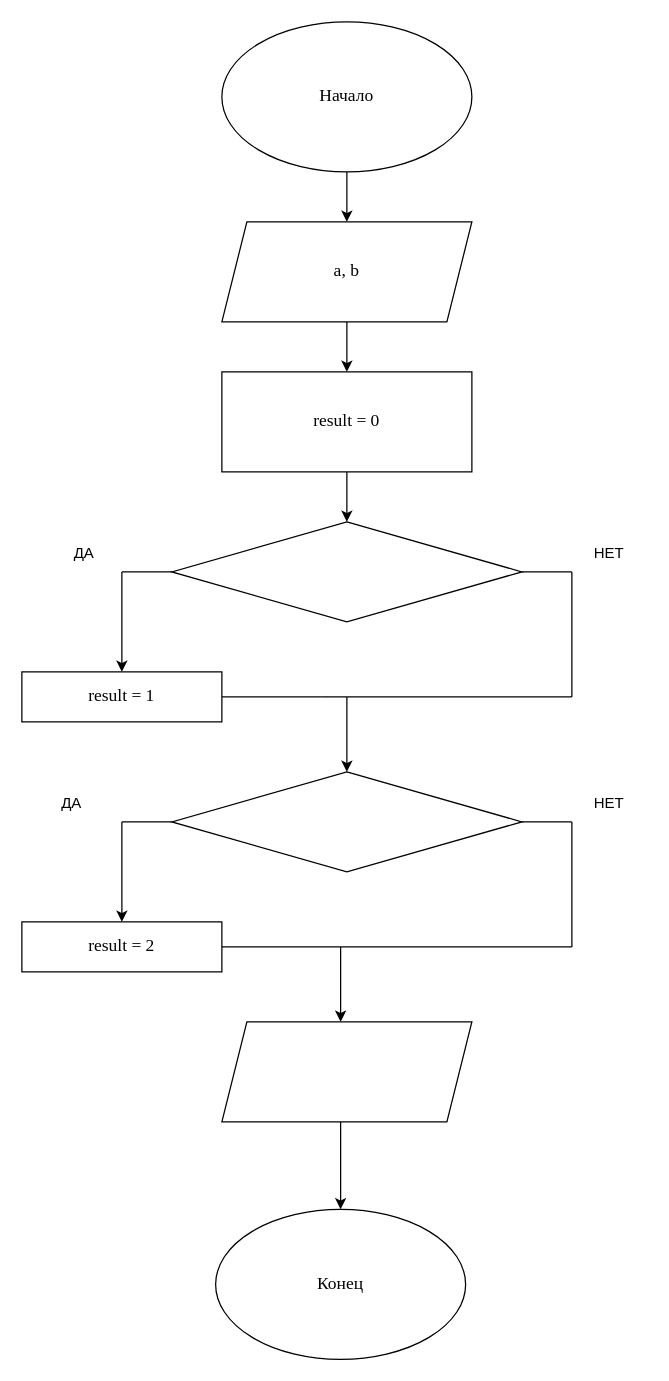
This 669x1381 diagram has some shape labels left out. The centre of each missing label's shape, as x and y in pixels:
"a % 2 == 0" belongs at (346,571).
"b % 2 == 0" belongs at (346,821).
"Вывод result" belongs at (346,1071).
